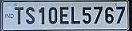character: (92, 5, 103, 24), (58, 6, 69, 24), (69, 6, 80, 24), (25, 6, 35, 24), (47, 6, 57, 24), (104, 6, 114, 24), (14, 6, 23, 24), (82, 6, 91, 24), (115, 5, 124, 23), (38, 6, 45, 25)
